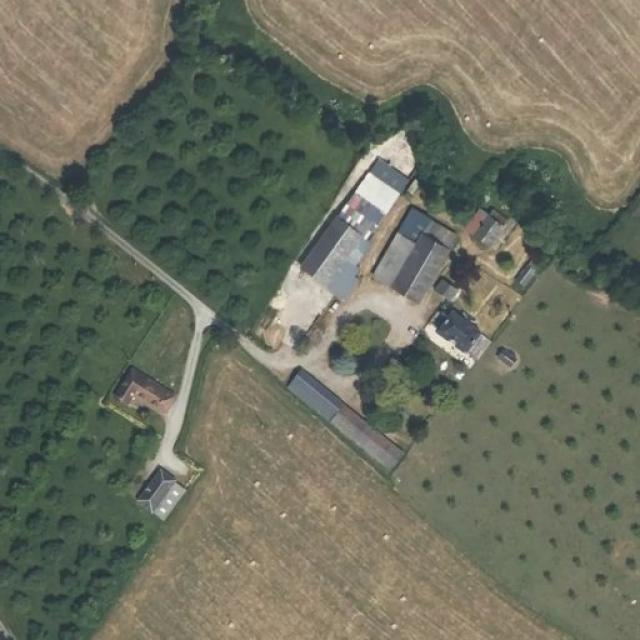maison: (286, 366, 418, 454), (100, 363, 178, 428), (136, 469, 184, 514)
villa: (296, 160, 521, 362)
